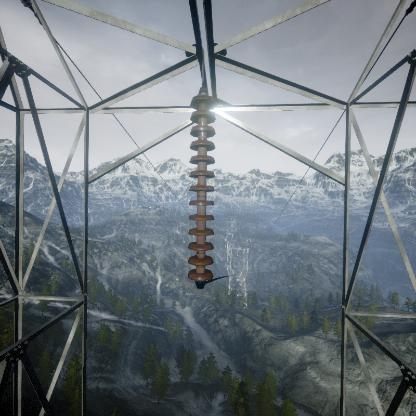insulator: (188, 85, 214, 285)
tower: (225, 241, 250, 311)
